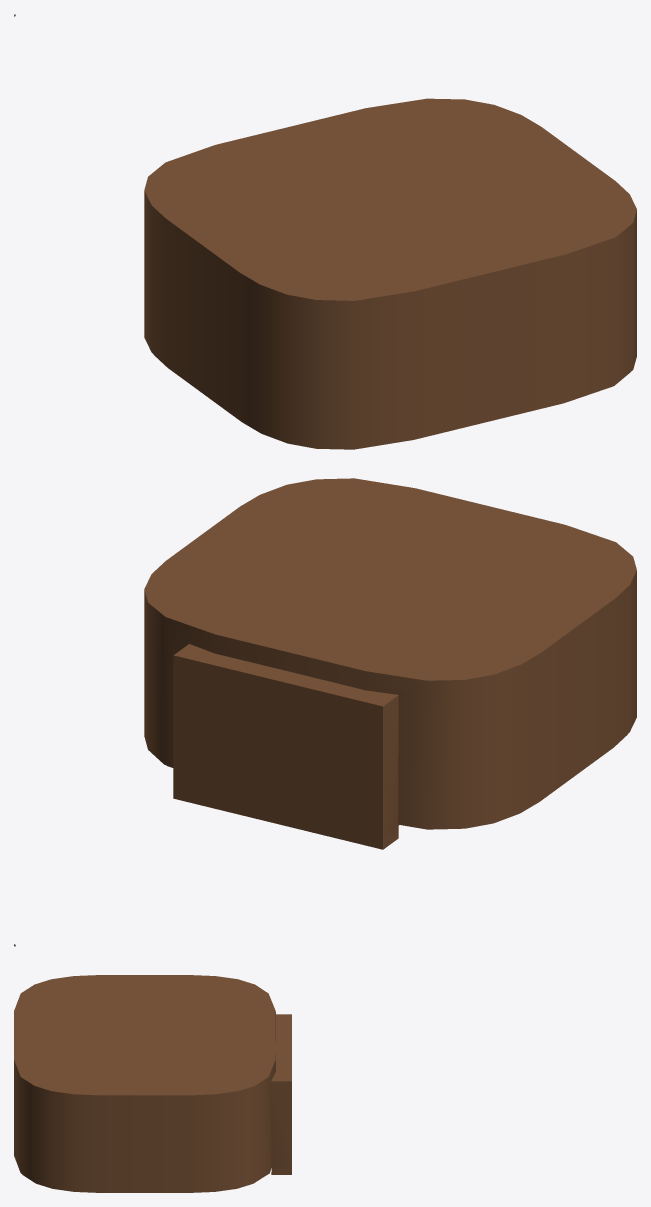
File: AlarmClock_2_AlarmClock_2_0_GeomSubset_0.obj
The picture shows the model from 3 angles, top to bottom: view 1: azimuth 30°, elevation 25°; view 2: azimuth 150°, elevation 25°; view 3: azimuth 270°, elevation 25°; orthographic projection. The views are drawn at different scales.
Parts seen in each view (by area): view 1: AlarmClock_2_AlarmClock_2_0_GeomSubset_0; view 2: AlarmClock_2_AlarmClock_2_0_GeomSubset_0; view 3: AlarmClock_2_AlarmClock_2_0_GeomSubset_0.
Boxes of the visible parts, bbox=[...] form: AlarmClock_2_AlarmClock_2_0_GeomSubset_0: bbox=[14, 14, 636, 449]; AlarmClock_2_AlarmClock_2_0_GeomSubset_0: bbox=[14, 478, 636, 946]; AlarmClock_2_AlarmClock_2_0_GeomSubset_0: bbox=[14, 975, 291, 1192].
Size of the model in its own units: 0.2058 by 0.085 by 0.4513.
